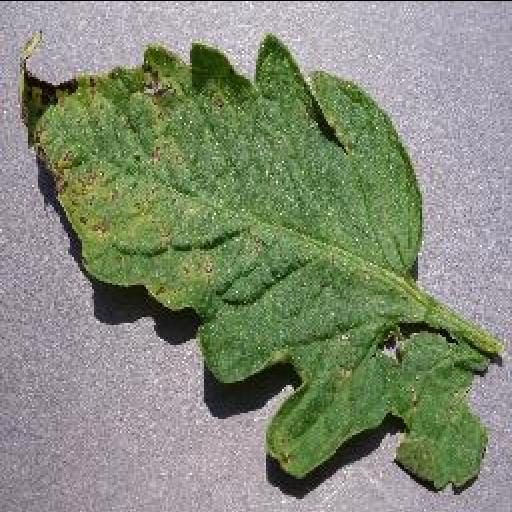disease_tomato: (16, 34, 486, 504)
